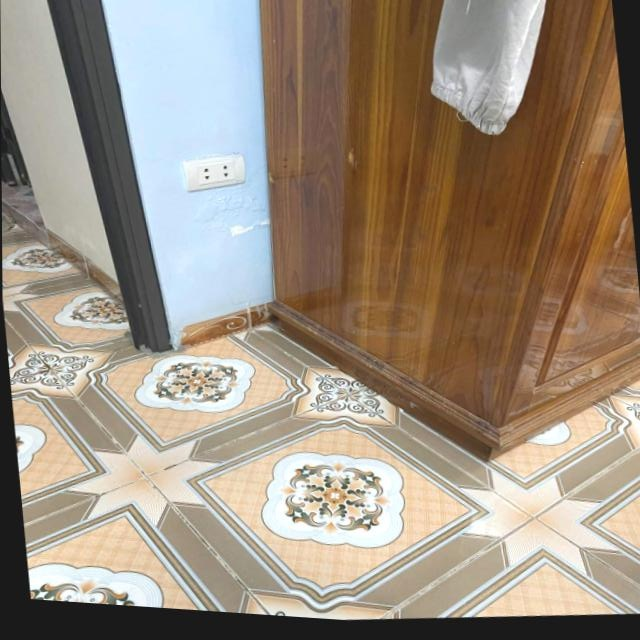outlet: (183, 148, 249, 195)
